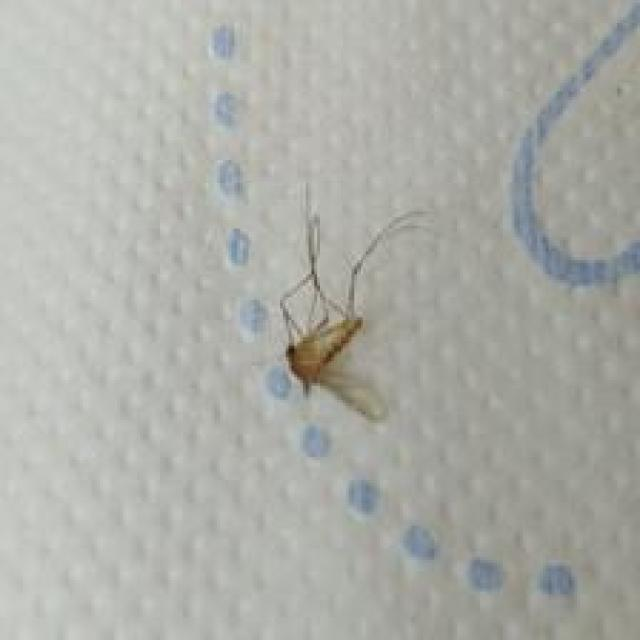Culex: (276, 183, 430, 423)
